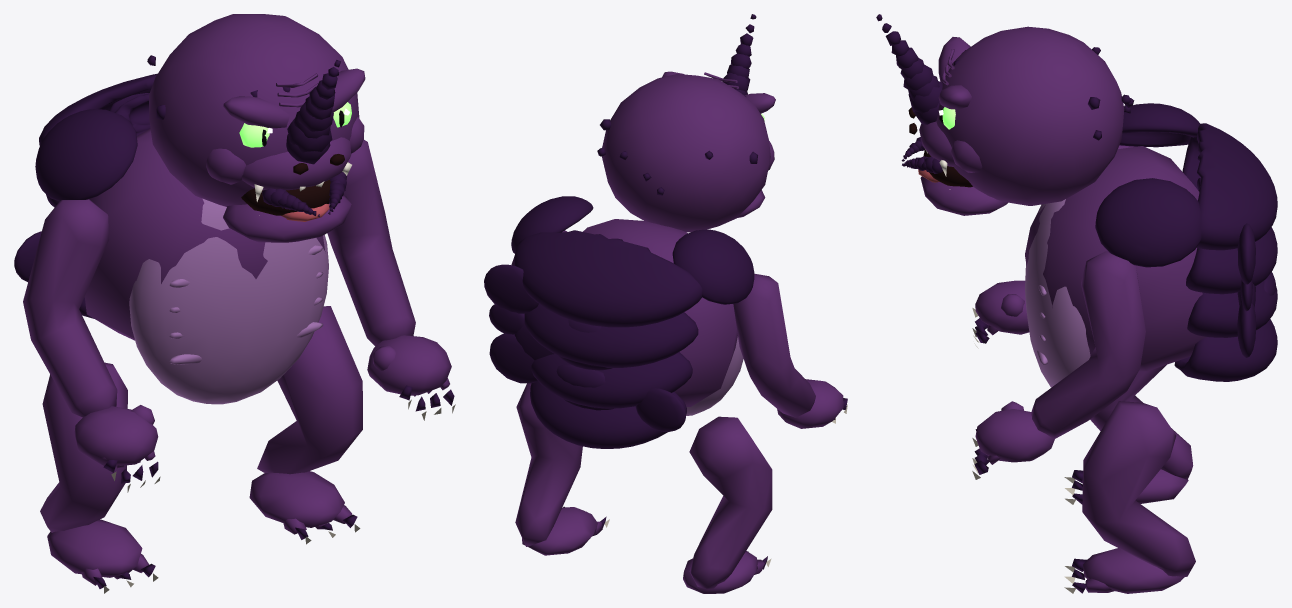
The model's file is panser_1.glb.
3 renders of one model, left to right at view 1: azimuth 30°, elevation 25°; view 2: azimuth 150°, elevation 25°; view 3: azimuth 270°, elevation 25°, orthographic. The views are drawn at different scales.
Visible parts, largest first — view 1: krop_net, hoved_net, armH_net, benV_net, armV_net, benH_net; view 2: krop_net, hoved_net, benH_net, armH_net, benV_net; view 3: krop_net, hoved_net, benV_net, armV_net, benH_net, armH_net.
Part boxes in pixels (x1,y1,x2,y2): krop_net: (14,73,328,404); hoved_net: (147,14,365,242); armH_net: (23,199,160,492); benV_net: (249,306,362,544); armV_net: (327,139,455,420); benH_net: (40,362,158,593); krop_net: (484,196,754,448); hoved_net: (597,14,775,232); benH_net: (683,416,772,593); armH_net: (733,273,847,428); benV_net: (515,383,609,555); krop_net: (1025,103,1277,387); hoved_net: (876,14,1134,215); benV_net: (1064,401,1195,593); armV_net: (972,251,1145,479); benH_net: (1064,364,1193,504); armH_net: (972,145,1134,348).
Bounding box in the file's own units: 1.19 × 1.83 × 1.26.
